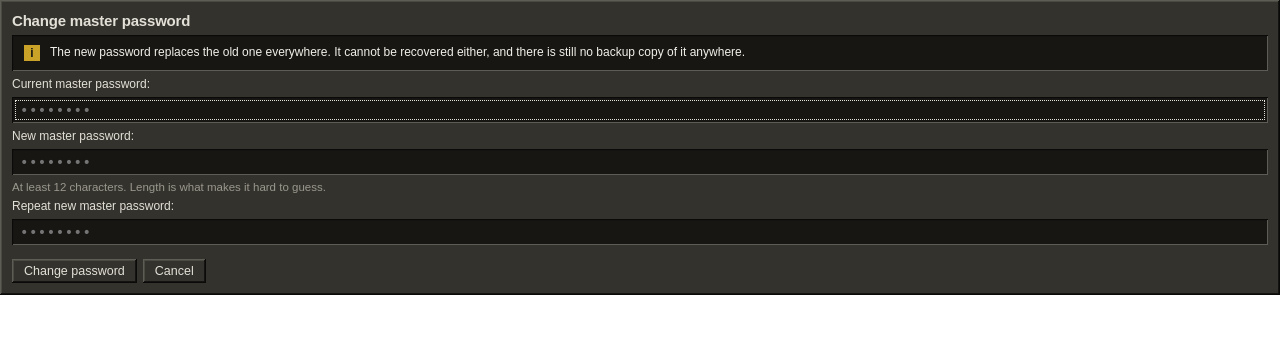
Test: ChangeMasterPasswordForm › refuses a new password shorter than the minimum
In the password field labelled "Current master password:": {"x": 640, "y": 110} [12,97,1268,123], type "the old password"
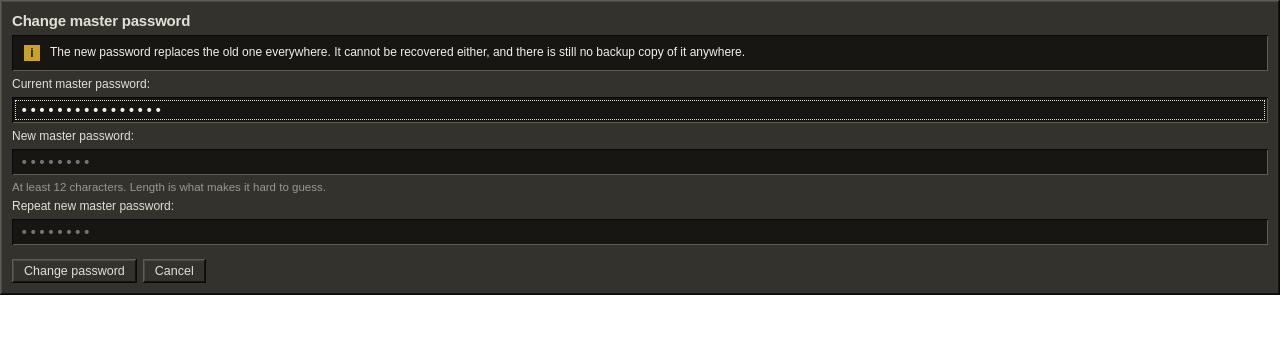
In the password field labelled "New master password:": {"x": 640, "y": 162} [12,149,1268,175], type "short"
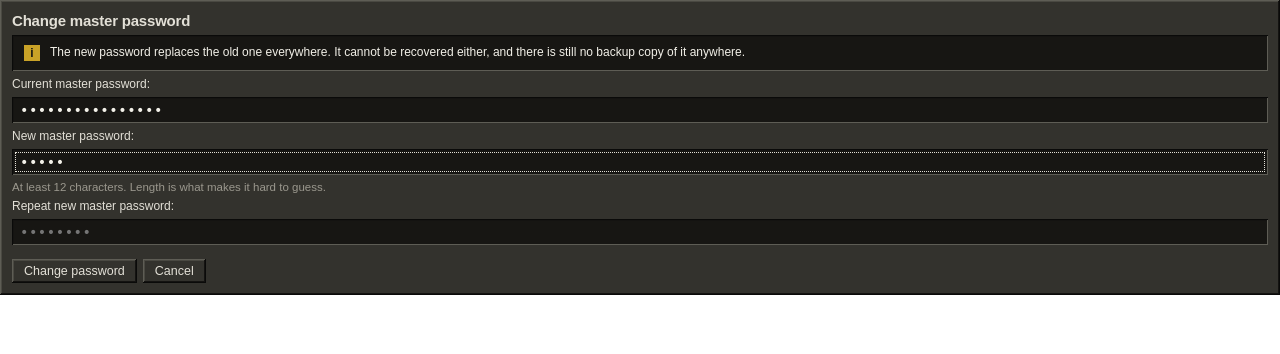
In the password field labelled "Repeat new master password:": {"x": 640, "y": 232} [12,219,1268,245], type "short"
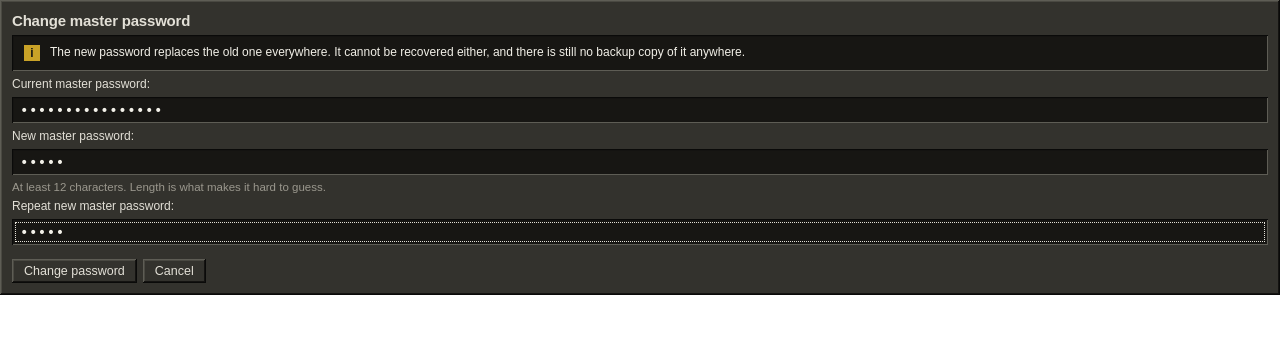
Click the button "Change password": {"x": 74, "y": 271} [12,259,137,283]
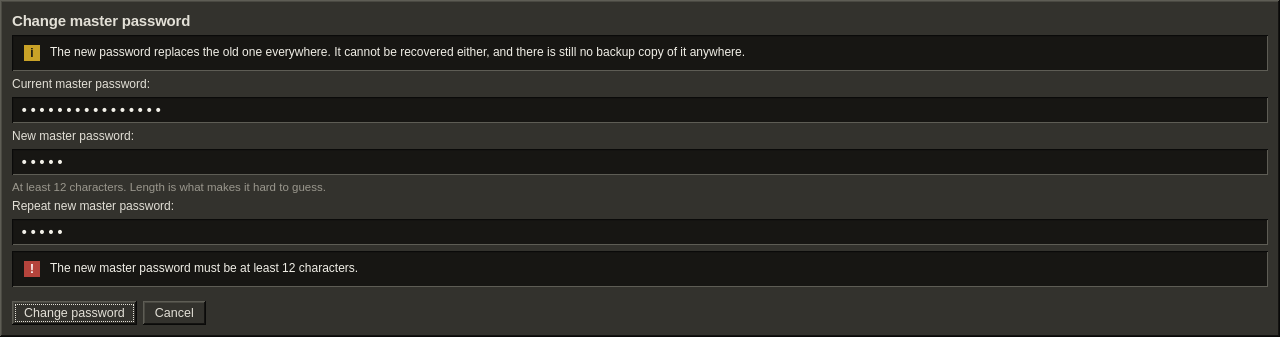
Result: the message shows "at least 12 characters" at [50,261,358,275]
